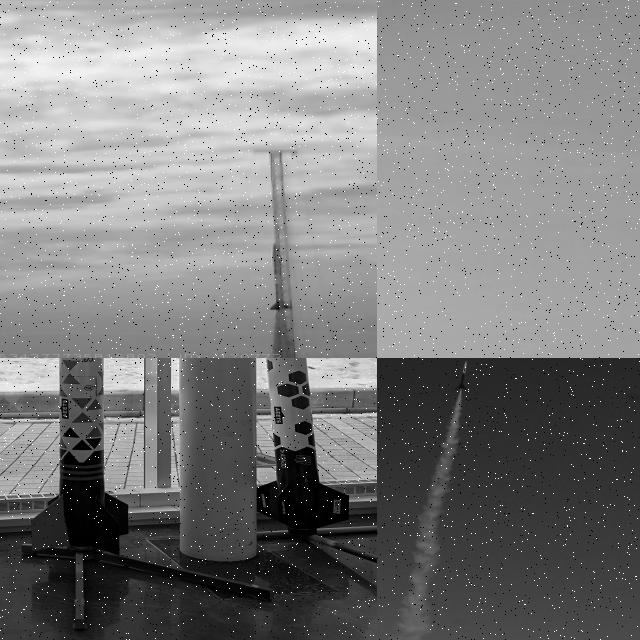Rocket: (31, 358, 129, 556), (257, 358, 349, 535), (268, 242, 289, 311), (453, 370, 472, 398)
